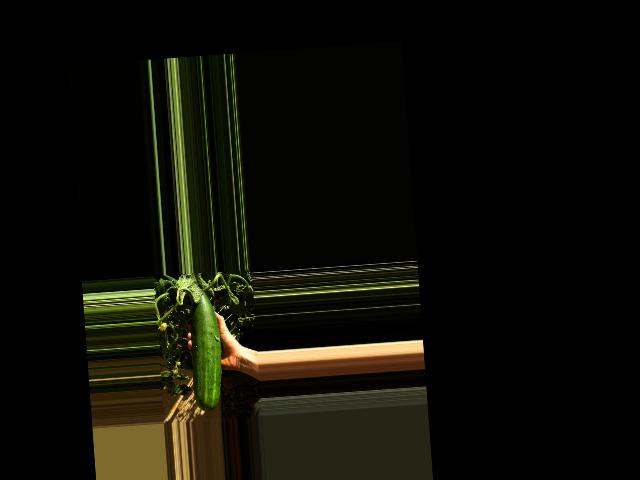cucumber: (186, 288, 225, 412)
